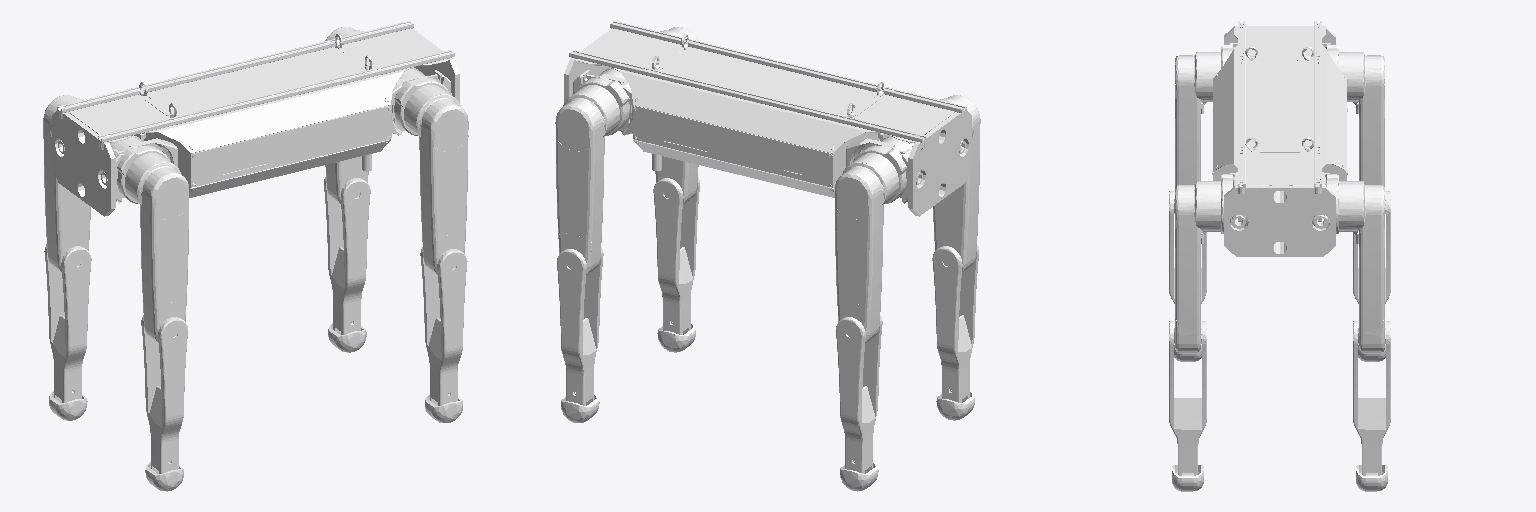
robot.urdf — yonsoku_robot:
<?xml version="1.0" ?>
<!-- =================================================================================== -->
<!-- |    This document was modified to use relative mesh paths                        | -->
<!-- =================================================================================== -->
<robot name="yonsoku_robot">
  <!-- link rviz colors -->
  <material name="White">
    <color rgba="1 1 1 1"/>
  </material>
  <material name="Black">
    <color rgba="0 0 0 1"/>
  </material>
  <!-- new base link -->
  <link name="base_link">
    </link>
  <!-- joint between base_link and body_link -->
  <joint name="base_to_body" type="fixed">
    <origin rpy="0 0 0" xyz="0 0 0"/>
    <parent link="base_link"/>
    <child link="body_link"/>
  </joint>
  <!-- body link -->
  <link name="body_link">
    <visual>
      <origin rpy="0 0 0" xyz="0 0 0"/>
      <geometry>
        <mesh filename="../meshes/base.stl" scale="0.001 0.001 0.001"/>
      </geometry>
      <material name="White"/>
    </visual>
    <collision>
      <origin rpy="0 0 0" xyz="0 0 0"/>
      <geometry>
        <mesh filename="../meshes/base.stl" scale="0.001 0.001 0.001"/>
      </geometry>
    </collision>
    <inertial>
      <mass value="12.72349"/>
      <origin rpy="0 0 0" xyz="-0.00 0.00 -0.00474"/>
      <inertia ixx="0.1" ixy="0.0000" ixz="0.000000" iyy="0.1" iyz="0.0" izz="0.1"/>
    </inertial>
  </link>
  <!-- IMU sensor -->
  <link name="imu_link">
    <inertial>
      <mass value="0.001"/>
      <origin rpy="0 0 0" xyz="0 0 0"/>
      <inertia ixx="0.000001" ixy="0.0" ixz="0.0" iyy="0.000001" iyz="0.0" izz="0.000001"/>
    </inertial>
    <visual>
      <geometry>
        <box size="0.05 0.05 0.05"/>
      </geometry>
      <origin rpy="0 0 0" xyz="0 0 0"/>
    </visual>
  </link>
  <joint name="base_to_imu" type="fixed">
    <parent link="base_link"/>
    <child link="imu_link"/>
    <origin rpy="0 0 0" xyz="0 0 0"/>
  </joint>
  <gazebo>
    <plugin filename="libgazebo_ros_imu.so" name="imu_plugin">
      <ros>
        <remapping>my_imu:=/imu/data</remapping>
      </ros>
      <alwaysOn>true</alwaysOn>
      <updateRate>50.0</updateRate>
      <bodyName>imu_link</bodyName>
      <gaussianNoise>0.0</gaussianNoise>
    </plugin>
  </gazebo>
  <!-- left forward joint -->
  <joint name="base_to_left_forward_base" type="fixed">
    <origin rpy="0 0 0" xyz="0.3000 0.0800 0"/>
    <parent link="body_link"/>
    <child link="LF_FOOT"/>
  </joint>
  <!-- base link -->
  <link name="LF_FOOT">
    <inertial>
      <mass value="0.001"/>
      <inertia ixx="0.000000" ixy="0.000000" ixz="0.000000" iyy="0.000000" iyz="0.000000" izz="0.000000"/>
    </inertial>
  </link>
  <!-- joint 1 -->
  <joint name="LF_JOINT1" type="revolute">
    <origin rpy="0 0 0" xyz="0 0 0.0"/>
    <axis rpy="0 0 0" xyz="1 0 0"/>
    <limit effort="1000.0" lower="-6.283185307179586" upper="6.283185307179586" velocity="6.283185307179586"/>
    <parent link="LF_FOOT"/>
    <child link="LF1"/>
  </joint>
  <!-- link 1 -->
  <link name="LF1">
    <visual>
      <origin rpy="0 0 0" xyz="0 0 0"/>
      <geometry>
        <mesh filename="../meshes/lf_hip.stl"/>
      </geometry>
      <material name="White"/>
    </visual>
    <collision>
      <origin rpy="0 0 0" xyz="0 0 0"/>
      <geometry>
        <mesh filename="../meshes/lf_hip.stl" scale="0.002 0.002 0.002"/>
      </geometry>
      <surface>
        <friction>
          <ode>
            <mu>1.0</mu>
            <mu2>1.0</mu2>
          </ode>
        </friction>
      </surface>
    </collision>
    <inertial>
      <origin xyz="-0.00 -0.0 0.00000"/>
      <mass value="1.23047"/>
      <inertia ixx="0.1" ixy="0.0000" ixz="0.000000" iyy="0.1" iyz="0.0" izz="0.1"/>
    </inertial>
  </link>
  <!-- joint 2 -->
  <joint name="LF_JOINT2" type="continuous">
    <origin rpy="0 0 0" xyz="0 0.1000 0"/>
    <axis rpy="0 0 0" xyz="0 1 0"/>
    <limit effort="1000.0" lower="-6.283185307179586" upper="6.283185307179586" velocity="6.283185307179586"/>
    <parent link="LF1"/>
    <child link="LF2"/>
  </joint>
  <!-- link 2 -->
  <link name="LF2">
    <visual>
      <origin rpy="0 0 0" xyz="0 0 0"/>
      <geometry>
        <mesh filename="../meshes/l_upper_leg.stl"/>
      </geometry>
      <material name="White"/>
    </visual>
    <collision>
      <origin rpy="0 0 0" xyz="0 0 0"/>
      <geometry>
        <mesh filename="../meshes/l_upper_leg.stl"/>
      </geometry>
      <surface>
        <friction>
          <ode>
            <mu>1.0</mu>
            <mu2>1.0</mu2>
          </ode>
        </friction>
      </surface>
    </collision>
    <inertial>
      <origin xyz="0.00006 -0.0 -0.05962"/>
      <mass value="2.06632"/>
      <inertia ixx="0.1" ixy="0.0000" ixz="0.000000" iyy="0.1" iyz="0.0" izz="0.1"/>
    </inertial>
  </link>
  <!-- joint 3 -->
  <joint name="LF_JOINT3" type="revolute">
    <axis rpy="0 0 0" xyz="0 1 0"/>
    <limit effort="1000.0" lower="-6.283185307179586" upper="6.283185307179586" velocity="6.283185307179586"/>
    <origin rpy="0 0 0" xyz="0 0 -0.2800"/>
    <parent link="LF2"/>
    <child link="LF3"/>
  </joint>
  <!-- link 3 -->
  <link name="LF3">
    <visual>
      <origin rpy="0 0 0" xyz="0 0 0"/>
      <geometry>
        <mesh filename="../meshes/lower_leg.stl"/>
      </geometry>
      <material name="White"/>
    </visual>
    <collision>
      <origin rpy="0 0 0" xyz="0 0 0"/>
      <geometry>
        <mesh filename="../meshes/lower_leg.stl"/>
      </geometry>
      <surface>
        <friction>
          <ode>
            <mu>1.0</mu>
            <mu2>1.0</mu2>
          </ode>
        </friction>
      </surface>
    </collision>
    <inertial>
      <origin xyz="0.00000 -0.00 -0.19822"/>
      <mass value="0.41492"/>
      <inertia ixx="0.1" ixy="0.0000" ixz="0.000000" iyy="0.1" iyz="0.0" izz="0.1"/>
    </inertial>
  </link>
  <!-- transmissions -->
  <transmission name="LF_transmission1">
    <type>transmission_interface/SimpleTransmission</type>
    <joint name="LF_JOINT1">
      <!-- <hardwareInterface>hardware_interface/PositionJointInterface</hardwareInterface> -->
      <hardwareInterface>hardware_interface/EffortJointInterface</hardwareInterface>
    </joint>
    <actuator name="LF_actuator1">
      <mechanicalReduction>1</mechanicalReduction>
    </actuator>
  </transmission>
  <transmission name="LF_transmission2">
    <type>transmission_interface/SimpleTransmission</type>
    <joint name="LF_JOINT2">
      <!-- <hardwareInterface>hardware_interface/PositionJointInterface</hardwareInterface> -->
      <hardwareInterface>hardware_interface/EffortJointInterface</hardwareInterface>
    </joint>
    <actuator name="LF_actuator2">
      <mechanicalReduction>1</mechanicalReduction>
    </actuator>
  </transmission>
  <transmission name="LF_transmission3">
    <type>transmission_interface/SimpleTransmission</type>
    <joint name="LF_JOINT3">
      <!-- <hardwareInterface>hardware_interface/PositonJointInterface</hardwareInterface> -->
      <hardwareInterface>hardware_interface/EffortJointInterface</hardwareInterface>
    </joint>
    <actuator name="LF_actuator3">
      <mechanicalReduction>1</mechanicalReduction>
    </actuator>
  </transmission>
  <!-- right forward joint -->
  <joint name="base_to_right_forward_base" type="fixed">
    <origin rpy="0 0 0" xyz="0.3000 -0.0800 0"/>
    <parent link="body_link"/>
    <child link="RF_FOOT"/>
  </joint>
  <!-- base link -->
  <link name="RF_FOOT">
    <inertial>
      <mass value="0.001"/>
      <inertia ixx="0.000000" ixy="0.000000" ixz="0.000000" iyy="0.000000" iyz="0.000000" izz="0.000000"/>
    </inertial>
  </link>
  <!-- joint 1 -->
  <joint name="RF_JOINT1" type="revolute">
    <origin rpy="0 0 0" xyz="0 0 0.0"/>
    <axis rpy="0 0 0" xyz="1 0 0"/>
    <limit effort="1000.0" lower="-6.283185307179586" upper="6.283185307179586" velocity="6.283185307179586"/>
    <parent link="RF_FOOT"/>
    <child link="RF1"/>
  </joint>
  <!-- link 1 -->
  <link name="RF1">
    <visual>
      <origin rpy="0 0 0" xyz="0 0 0"/>
      <geometry>
        <mesh filename="../meshes/rf_hip.stl"/>
      </geometry>
      <material name="White"/>
    </visual>
    <collision>
      <origin rpy="0 0 0" xyz="0 0 0"/>
      <geometry>
        <mesh filename="../meshes/rf_hip.stl" scale="0.002 0.002 0.002"/>
      </geometry>
      <surface>
        <friction>
          <ode>
            <mu>1.0</mu>
            <mu2>1.0</mu2>
          </ode>
        </friction>
      </surface>
    </collision>
    <inertial>
      <origin xyz="-0.00 -0.0 0.00000"/>
      <mass value="1.23047"/>
      <inertia ixx="0.1" ixy="0.0000" ixz="0.000000" iyy="0.1" iyz="0.0" izz="0.1"/>
    </inertial>
  </link>
  <!-- joint 2 -->
  <joint name="RF_JOINT2" type="continuous">
    <origin rpy="0 0 0" xyz="0 -0.1000  0"/>
    <axis rpy="0 0 0" xyz="0 1 0"/>
    <limit effort="1000.0" lower="-6.283185307179586" upper="6.283185307179586" velocity="6.283185307179586"/>
    <parent link="RF1"/>
    <child link="RF2"/>
  </joint>
  <!-- link 2 -->
  <link name="RF2">
    <visual>
      <origin rpy="0 0 0" xyz="0 0 0"/>
      <geometry>
        <mesh filename="../meshes/r_upper_leg.stl"/>
      </geometry>
      <material name="White"/>
    </visual>
    <collision>
      <origin rpy="0 0 0" xyz="0 0 0"/>
      <geometry>
        <mesh filename="../meshes/r_upper_leg.stl"/>
      </geometry>
      <surface>
        <friction>
          <ode>
            <mu>1.0</mu>
            <mu2>1.0</mu2>
          </ode>
        </friction>
      </surface>
    </collision>
    <inertial>
      <origin xyz="0.00006 -0.0 -0.05962"/>
      <mass value="2.06632"/>
      <inertia ixx="0.1" ixy="0.0000" ixz="0.000000" iyy="0.1" iyz="0.0" izz="0.1"/>
    </inertial>
  </link>
  <!-- joint 3 -->
  <joint name="RF_JOINT3" type="revolute">
    <axis rpy="0 0 0" xyz="0 1 0"/>
    <limit effort="1000.0" lower="-6.283185307179586" upper="6.283185307179586" velocity="6.283185307179586"/>
    <origin rpy="0 0 0" xyz="0 0 -0.2800"/>
    <parent link="RF2"/>
    <child link="RF3"/>
  </joint>
  <!-- link 3 -->
  <link name="RF3">
    <visual>
      <origin rpy="0 0 0" xyz="0 0 0"/>
      <geometry>
        <mesh filename="../meshes/lower_leg.stl"/>
      </geometry>
      <material name="White"/>
    </visual>
    <collision>
      <origin rpy="0 0 0" xyz="0 0 0"/>
      <geometry>
        <mesh filename="../meshes/lower_leg.stl"/>
      </geometry>
      <surface>
        <friction>
          <ode>
            <mu>1.0</mu>
            <mu2>1.0</mu2>
          </ode>
        </friction>
      </surface>
    </collision>
    <inertial>
      <origin xyz="0.00000 -0.00 -0.19822"/>
      <mass value="0.41492"/>
      <inertia ixx="0.1" ixy="0.0000" ixz="0.000000" iyy="0.1" iyz="0.0" izz="0.1"/>
    </inertial>
  </link>
  <!-- transmissions -->
  <transmission name="RF_transmission1">
    <type>transmission_interface/SimpleTransmission</type>
    <joint name="RF_JOINT1">
      <!-- <hardwareInterface>hardware_interface/PositionJointInterface</hardwareInterface> -->
      <hardwareInterface>hardware_interface/EffortJointInterface</hardwareInterface>
    </joint>
    <actuator name="RF_actuator1">
      <mechanicalReduction>1</mechanicalReduction>
    </actuator>
  </transmission>
  <transmission name="RF_transmission2">
    <type>transmission_interface/SimpleTransmission</type>
    <joint name="RF_JOINT2">
      <!-- <hardwareInterface>hardware_interface/PositionJointInterface</hardwareInterface> -->
      <hardwareInterface>hardware_interface/EffortJointInterface</hardwareInterface>
    </joint>
    <actuator name="RF_actuator2">
      <mechanicalReduction>1</mechanicalReduction>
    </actuator>
  </transmission>
  <transmission name="RF_transmission3">
    <type>transmission_interface/SimpleTransmission</type>
    <joint name="RF_JOINT3">
      <!-- <hardwareInterface>hardware_interface/PositonJointInterface</hardwareInterface> -->
      <hardwareInterface>hardware_interface/EffortJointInterface</hardwareInterface>
    </joint>
    <actuator name="RF_actuator3">
      <mechanicalReduction>1</mechanicalReduction>
    </actuator>
  </transmission>
  <!-- left back joint -->
  <joint name="base_to_left_back_base" type="fixed">
    <origin rpy="0 0 0" xyz="-0.3000 0.0800 0"/>
    <parent link="body_link"/>
    <child link="LB_FOOT"/>
  </joint>
  <!-- base link -->
  <link name="LB_FOOT">
    <inertial>
      <mass value="0.001"/>
      <inertia ixx="0.000000" ixy="0.000000" ixz="0.000000" iyy="0.000000" iyz="0.000000" izz="0.000000"/>
    </inertial>
  </link>
  <!-- joint 1 -->
  <joint name="LB_JOINT1" type="revolute">
    <origin rpy="0 0 0" xyz="0 0 0.0"/>
    <axis rpy="0 0 0" xyz="1 0 0"/>
    <limit effort="1000.0" lower="-6.283185307179586" upper="6.283185307179586" velocity="6.283185307179586"/>
    <parent link="LB_FOOT"/>
    <child link="LB1"/>
  </joint>
  <!-- link 1 -->
  <link name="LB1">
    <visual>
      <origin rpy="0 0 0" xyz="0 0 0"/>
      <geometry>
        <mesh filename="../meshes/lb_hip.stl"/>
      </geometry>
      <material name="White"/>
    </visual>
    <collision>
      <origin rpy="0 0 0" xyz="0 0 0"/>
      <geometry>
        <mesh filename="../meshes/lb_hip.stl" scale="0.002 0.002 0.002"/>
      </geometry>
      <surface>
        <friction>
          <ode>
            <mu>1.0</mu>
            <mu2>1.0</mu2>
          </ode>
        </friction>
      </surface>
    </collision>
    <inertial>
      <origin xyz="-0.00 -0.0 0.00000"/>
      <mass value="1.23047"/>
      <inertia ixx="0.1" ixy="0.0000" ixz="0.000000" iyy="0.1" iyz="0.0" izz="0.1"/>
    </inertial>
  </link>
  <!-- joint 2 -->
  <joint name="LB_JOINT2" type="continuous">
    <origin rpy="0 0 0" xyz="0 0.1000 0"/>
    <axis rpy="0 0 0" xyz="0 1 0"/>
    <limit effort="1000.0" lower="-6.283185307179586" upper="6.283185307179586" velocity="6.283185307179586"/>
    <parent link="LB1"/>
    <child link="LB2"/>
  </joint>
  <!-- link 2 -->
  <link name="LB2">
    <visual>
      <origin rpy="0 0 0" xyz="0 0 0"/>
      <geometry>
        <mesh filename="../meshes/l_upper_leg.stl"/>
      </geometry>
      <material name="White"/>
    </visual>
    <collision>
      <origin rpy="0 0 0" xyz="0 0 0"/>
      <geometry>
        <mesh filename="../meshes/l_upper_leg.stl"/>
      </geometry>
      <surface>
        <friction>
          <ode>
            <mu>1.0</mu>
            <mu2>1.0</mu2>
          </ode>
        </friction>
      </surface>
    </collision>
    <inertial>
      <origin xyz="0.00006 -0.0 -0.05962"/>
      <mass value="2.06632"/>
      <inertia ixx="0.1" ixy="0.0000" ixz="0.000000" iyy="0.1" iyz="0.0" izz="0.1"/>
    </inertial>
  </link>
  <!-- joint 3 -->
  <joint name="LB_JOINT3" type="revolute">
    <axis rpy="0 0 0" xyz="0 1 0"/>
    <limit effort="1000.0" lower="-6.283185307179586" upper="6.283185307179586" velocity="6.283185307179586"/>
    <origin rpy="0 0 0" xyz="0 0 -0.2800"/>
    <parent link="LB2"/>
    <child link="LB3"/>
  </joint>
  <!-- link 3 -->
  <link name="LB3">
    <visual>
      <origin rpy="0 0 0" xyz="0 0 0"/>
      <geometry>
        <mesh filename="../meshes/lower_leg.stl"/>
      </geometry>
      <material name="White"/>
    </visual>
    <collision>
      <origin rpy="0 0 0" xyz="0 0 0"/>
      <geometry>
        <mesh filename="../meshes/lower_leg.stl"/>
      </geometry>
      <surface>
        <friction>
          <ode>
            <mu>1.0</mu>
            <mu2>1.0</mu2>
          </ode>
        </friction>
      </surface>
    </collision>
    <inertial>
      <origin xyz="0.00000 -0.00 -0.19822"/>
      <mass value="0.41492"/>
      <inertia ixx="0.1" ixy="0.0000" ixz="0.000000" iyy="0.1" iyz="0.0" izz="0.1"/>
    </inertial>
  </link>
  <!-- transmissions -->
  <transmission name="LB_transmission1">
    <type>transmission_interface/SimpleTransmission</type>
    <joint name="LB_JOINT1">
      <!-- <hardwareInterface>hardware_interface/PositionJointInterface</hardwareInterface> -->
      <hardwareInterface>hardware_interface/EffortJointInterface</hardwareInterface>
    </joint>
    <actuator name="LB_actuator1">
      <mechanicalReduction>1</mechanicalReduction>
    </actuator>
  </transmission>
  <transmission name="LB_transmission2">
    <type>transmission_interface/SimpleTransmission</type>
    <joint name="LB_JOINT2">
      <!-- <hardwareInterface>hardware_interface/PositionJointInterface</hardwareInterface> -->
      <hardwareInterface>hardware_interface/EffortJointInterface</hardwareInterface>
    </joint>
    <actuator name="LB_actuator2">
      <mechanicalReduction>1</mechanicalReduction>
    </actuator>
  </transmission>
  <transmission name="LB_transmission3">
    <type>transmission_interface/SimpleTransmission</type>
    <joint name="LB_JOINT3">
      <!-- <hardwareInterface>hardware_interface/PositonJointInterface</hardwareInterface> -->
      <hardwareInterface>hardware_interface/EffortJointInterface</hardwareInterface>
    </joint>
    <actuator name="LB_actuator3">
      <mechanicalReduction>1</mechanicalReduction>
    </actuator>
  </transmission>
  <!-- right back joint -->
  <joint name="base_to_right_back_base" type="fixed">
    <origin rpy="0 0 0" xyz="-0.3000 -0.0800 0"/>
    <parent link="body_link"/>
    <child link="RB_FOOT"/>
  </joint>
  <!-- base link -->
  <link name="RB_FOOT">
    <inertial>
      <mass value="0.001"/>
      <inertia ixx="0.000000" ixy="0.000000" ixz="0.000000" iyy="0.000000" iyz="0.000000" izz="0.000000"/>
    </inertial>
  </link>
  <!-- joint 1 -->
  <joint name="RB_JOINT1" type="revolute">
    <origin rpy="0 0 0" xyz="0 0 0.0"/>
    <axis rpy="0 0 0" xyz="1 0 0"/>
    <limit effort="1000.0" lower="-6.283185307179586" upper="6.283185307179586" velocity="6.283185307179586"/>
    <parent link="RB_FOOT"/>
    <child link="RB1"/>
  </joint>
  <!-- link 1 -->
  <link name="RB1">
    <visual>
      <origin rpy="0 0 0" xyz="0 0 0"/>
      <geometry>
        <mesh filename="../meshes/rb_hip.stl"/>
      </geometry>
      <material name="White"/>
    </visual>
    <collision>
      <origin rpy="0 0 0" xyz="0 0 0"/>
      <geometry>
        <mesh filename="../meshes/rb_hip.stl" scale="0.002 0.002 0.002"/>
      </geometry>
      <surface>
        <friction>
          <ode>
            <mu>1.0</mu>
            <mu2>1.0</mu2>
          </ode>
        </friction>
      </surface>
    </collision>
    <inertial>
      <origin xyz="-0.00 -0.0 0.00000"/>
      <mass value="1.23047"/>
      <inertia ixx="0.1" ixy="0.0000" ixz="0.000000" iyy="0.1" iyz="0.0" izz="0.1"/>
    </inertial>
  </link>
  <!-- joint 2 -->
  <joint name="RB_JOINT2" type="continuous">
    <origin rpy="0 0 0" xyz="0 -0.1000  0"/>
    <axis rpy="0 0 0" xyz="0 1 0"/>
    <limit effort="1000.0" lower="-6.283185307179586" upper="6.283185307179586" velocity="6.283185307179586"/>
    <parent link="RB1"/>
    <child link="RB2"/>
  </joint>
  <!-- link 2 -->
  <link name="RB2">
    <visual>
      <origin rpy="0 0 0" xyz="0 0 0"/>
      <geometry>
        <mesh filename="../meshes/r_upper_leg.stl"/>
      </geometry>
      <material name="White"/>
    </visual>
    <collision>
      <origin rpy="0 0 0" xyz="0 0 0"/>
      <geometry>
        <mesh filename="../meshes/r_upper_leg.stl"/>
      </geometry>
      <surface>
        <friction>
          <ode>
            <mu>1.0</mu>
            <mu2>1.0</mu2>
          </ode>
        </friction>
      </surface>
    </collision>
    <inertial>
      <origin xyz="0.00006 -0.0 -0.05962"/>
      <mass value="2.06632"/>
      <inertia ixx="0.1" ixy="0.0000" ixz="0.000000" iyy="0.1" iyz="0.0" izz="0.1"/>
    </inertial>
  </link>
  <!-- joint 3 -->
  <joint name="RB_JOINT3" type="revolute">
    <axis rpy="0 0 0" xyz="0 1 0"/>
    <limit effort="1000.0" lower="-6.283185307179586" upper="6.283185307179586" velocity="6.283185307179586"/>
    <origin rpy="0 0 0" xyz="0 0 -0.2800"/>
    <parent link="RB2"/>
    <child link="RB3"/>
  </joint>
  <!-- link 3 -->
  <link name="RB3">
    <visual>
      <origin rpy="0 0 0" xyz="0 0 0"/>
      <geometry>
        <mesh filename="../meshes/lower_leg.stl"/>
      </geometry>
      <material name="White"/>
    </visual>
    <collision>
      <origin rpy="0 0 0" xyz="0 0 0"/>
      <geometry>
        <mesh filename="../meshes/lower_leg.stl"/>
      </geometry>
      <surface>
        <friction>
          <ode>
            <mu>1.0</mu>
            <mu2>1.0</mu2>
          </ode>
        </friction>
      </surface>
    </collision>
    <inertial>
      <origin xyz="0.00000 -0.00 -0.19822"/>
      <mass value="0.41492"/>
      <inertia ixx="0.1" ixy="0.0000" ixz="0.000000" iyy="0.1" iyz="0.0" izz="0.1"/>
    </inertial>
  </link>
  <!-- transmissions -->
  <transmission name="RB_transmission1">
    <type>transmission_interface/SimpleTransmission</type>
    <joint name="RB_JOINT1">
      <!-- <hardwareInterface>hardware_interface/PositionJointInterface</hardwareInterface> -->
      <hardwareInterface>hardware_interface/EffortJointInterface</hardwareInterface>
    </joint>
    <actuator name="RB_actuator1">
      <mechanicalReduction>1</mechanicalReduction>
    </actuator>
  </transmission>
  <transmission name="RB_transmission2">
    <type>transmission_interface/SimpleTransmission</type>
    <joint name="RB_JOINT2">
      <!-- <hardwareInterface>hardware_interface/PositionJointInterface</hardwareInterface> -->
      <hardwareInterface>hardware_interface/EffortJointInterface</hardwareInterface>
    </joint>
    <actuator name="RB_actuator2">
      <mechanicalReduction>1</mechanicalReduction>
    </actuator>
  </transmission>
  <transmission name="RB_transmission3">
    <type>transmission_interface/SimpleTransmission</type>
    <joint name="RB_JOINT3">
      <!-- <hardwareInterface>hardware_interface/PositonJointInterface</hardwareInterface> -->
      <hardwareInterface>hardware_interface/EffortJointInterface</hardwareInterface>
    </joint>
    <actuator name="RB_actuator3">
      <mechanicalReduction>1</mechanicalReduction>
    </actuator>
  </transmission>
  <gazebo>
    <plugin filename="libgazebo_ros_control.so" name="gazebo_ros_control"/>
  </gazebo>
</robot>

--- Render facts (derived) ---
3 views of the same robot in one strip: view 1: azimuth 30°, elevation 25°; view 2: azimuth 150°, elevation 25°; view 3: azimuth 270°, elevation 25° (orthographic).
Robot: yonsoku_robot — 19 links, 18 joints (8 revolute, 4 continuous, 6 fixed); root link base_link; default pose: every joint at zero.
Links seen in each view (by area): view 1: body_link, RF2, RB2, RB3, LF3, LB3, RF3, LB2, LF2, RB1, RF1; view 2: body_link, LF2, LB2, LB3, LF3, RF3, RB3, RB2, RF2, LB1, LF1; view 3: body_link, LF2, RF2, LB2, RB2, LF3, RF3, RB3, LB3.
Link boxes in pixels (x1,y1,x2,y2): body_link: (52,21,459,216); RF2: (395,77,468,274); RB2: (117,146,188,343); RB3: (141,315,187,491); LF3: (324,177,370,352); LB3: (44,244,91,420); RF3: (420,247,467,422); LB2: (43,95,90,272); LF2: (325,27,368,203); RB1: (101,135,177,203); RF1: (391,67,451,135); body_link: (564,21,971,216); LF2: (555,77,628,274); LB2: (835,145,906,342); LB3: (836,315,882,491); LF3: (557,247,603,422); RF3: (653,177,699,352); RB3: (932,245,978,420); RB2: (933,95,980,271); RF2: (655,27,698,203); LB1: (846,135,922,203); LF1: (572,67,632,135); body_link: (1212,21,1347,256); LF2: (1326,174,1384,352); RF2: (1175,174,1233,352); LB2: (1325,45,1384,186); RB2: (1175,45,1234,186); LF3: (1353,321,1390,491); RF3: (1169,321,1206,491); RB3: (1169,191,1206,361); LB3: (1353,191,1390,361).
Bounding box of the posed robot: 0.758 × 0.435 × 0.7192 m (x, y, z).
Meshes: 8 distinct files referenced, 13 mesh visuals loaded (8 binary STL).
